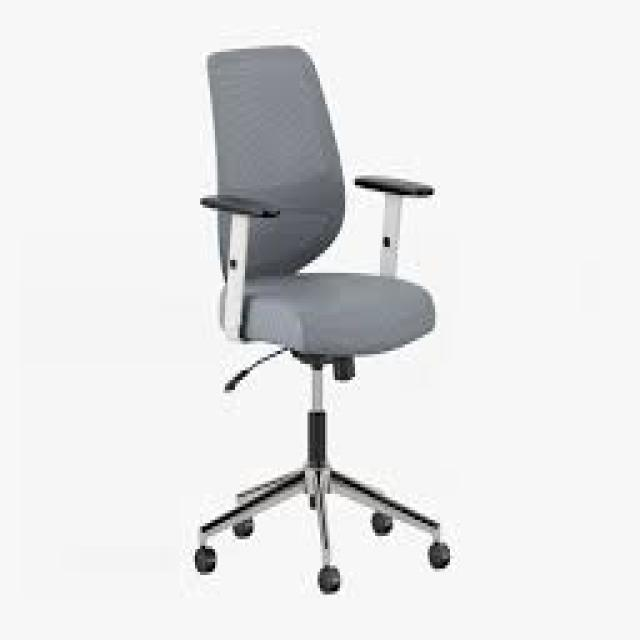chair: (112, 3, 492, 640)
